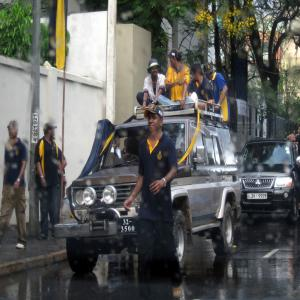Vehicle-registration-plate: (118, 218, 140, 236), (248, 194, 268, 200)
